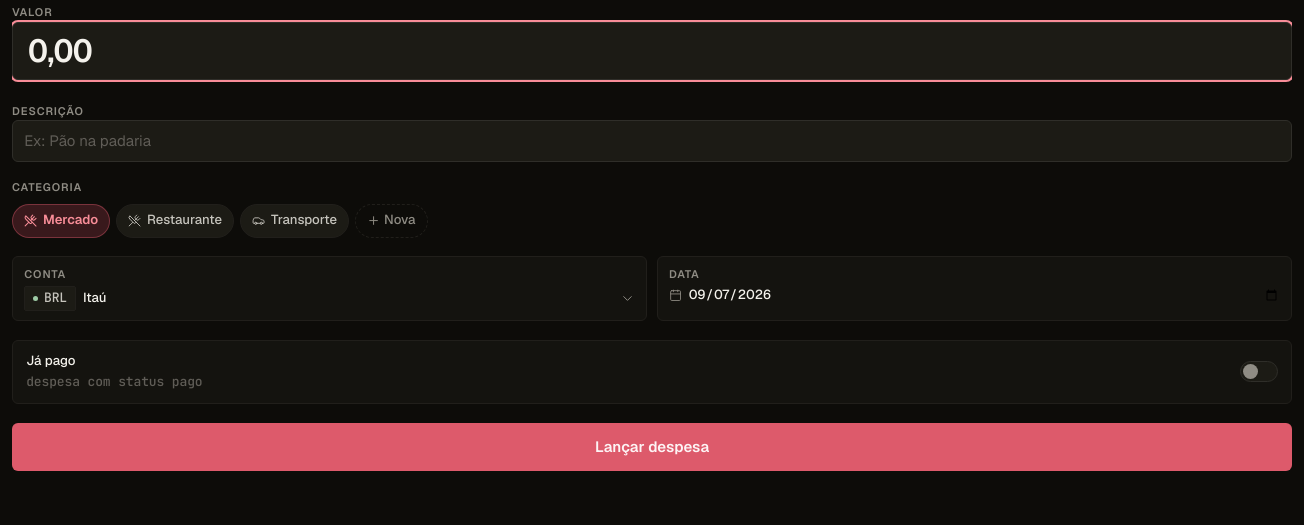
Test: <LancarForm> › C5 — após erro, mantém valores digitados e categoria selecionada
Type "12,50" into the field labelled "Valor".
click(652, 51); type("12,50")  # box [12,22,1292,80]
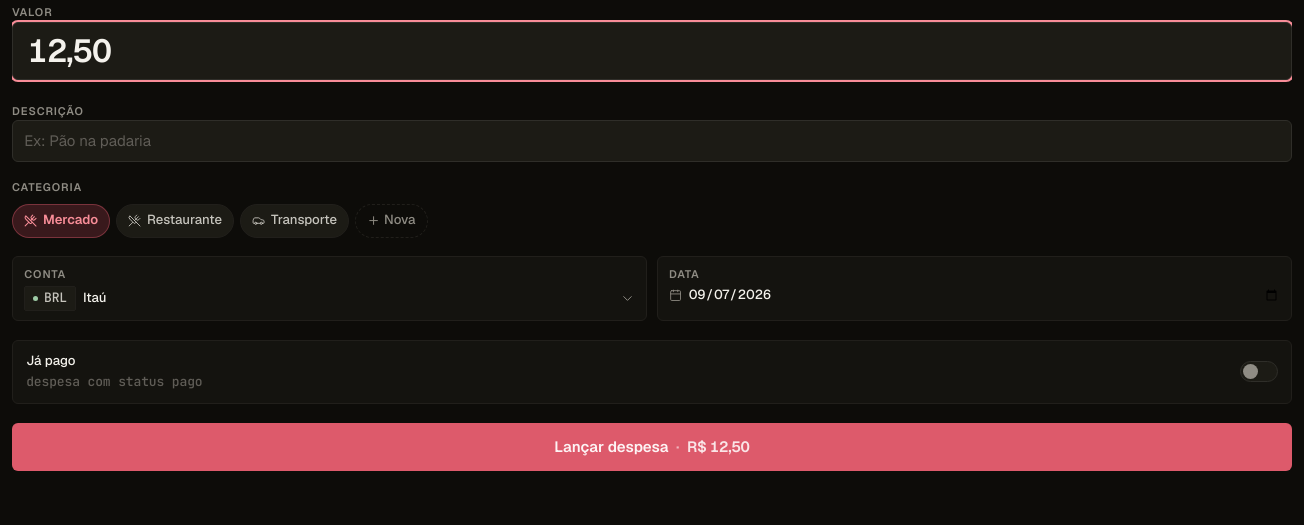
Type "Café no Starbucks" into the field labelled "Descrição".
click(652, 141); type("Café no Starbucks")  # box [12,120,1292,162]
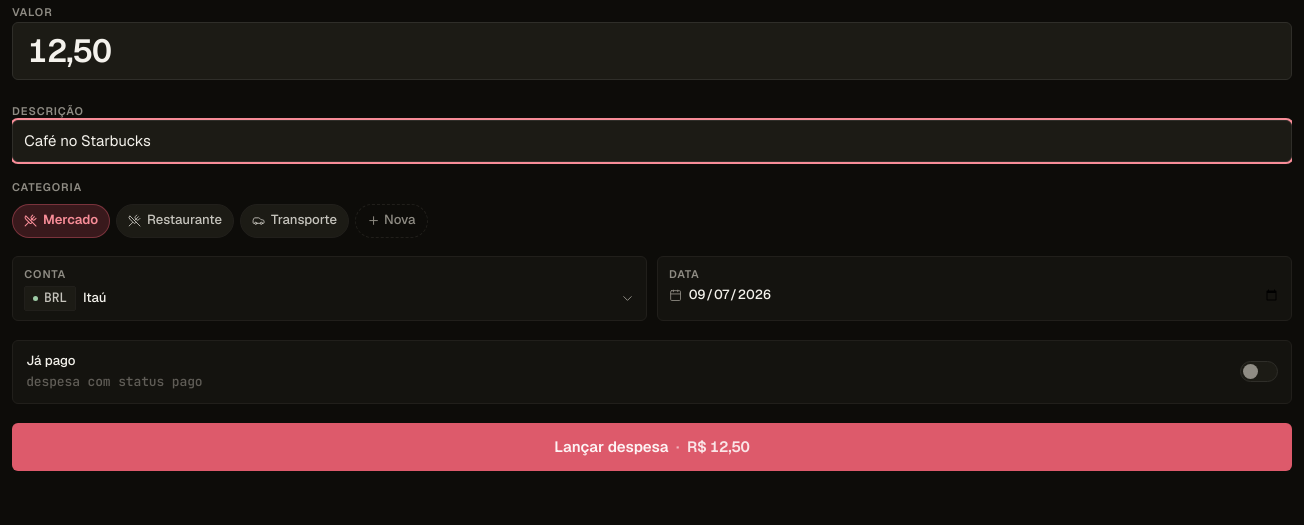
Click the button "Restaurante".
click(175, 221)  # box [116,204,234,238]
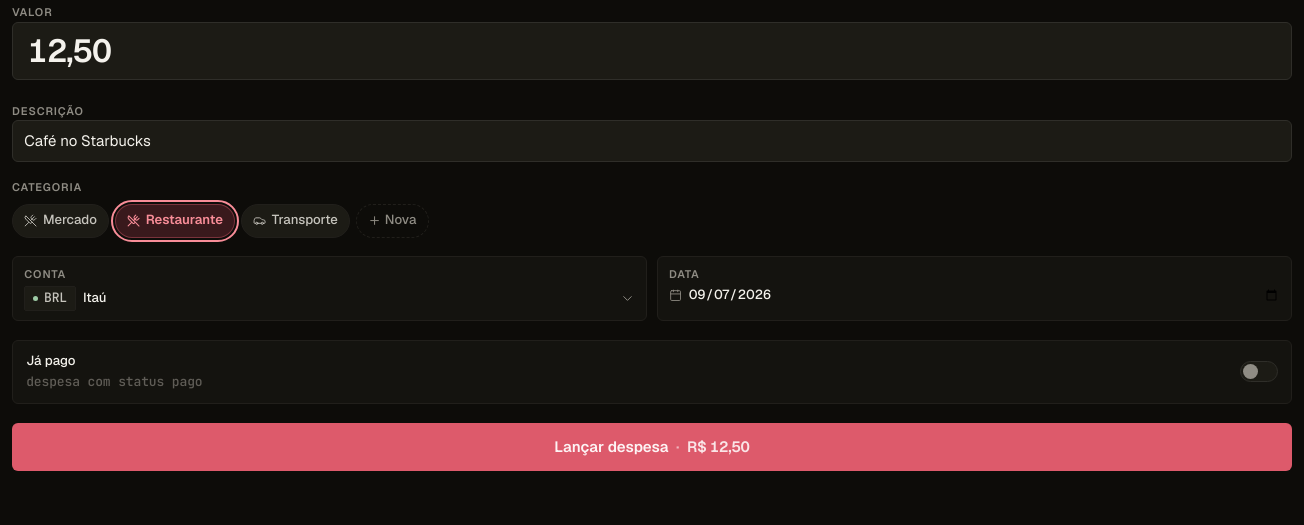
Click the button "Lançar despesa · R$ 12,50".
click(652, 446)  # box [12,422,1292,470]
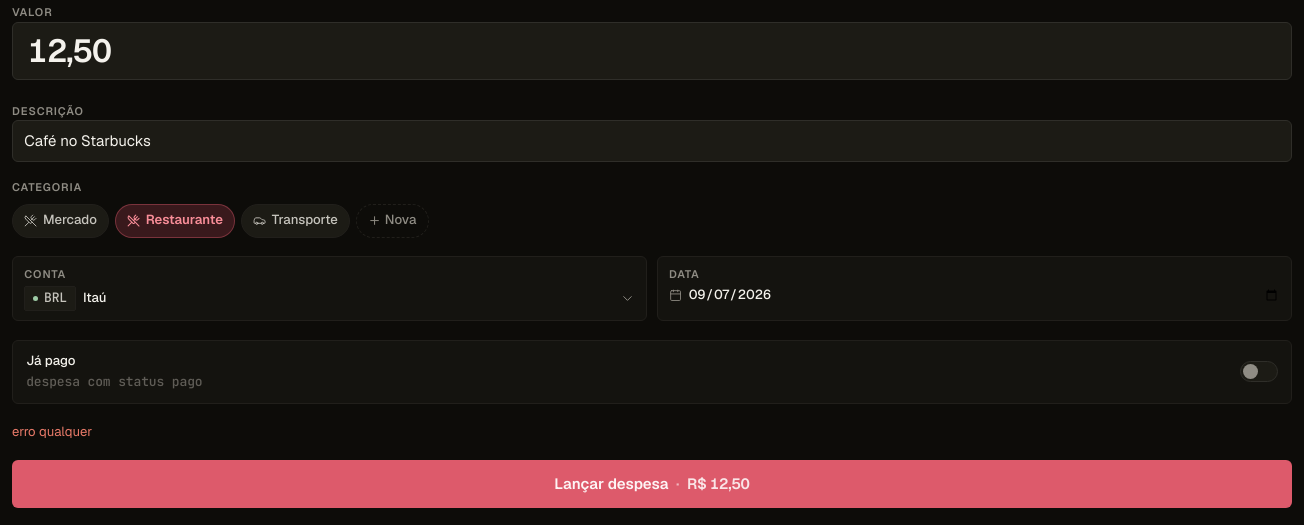
Check: the message "erro qualquer" is shown, box [12,422,92,440]
